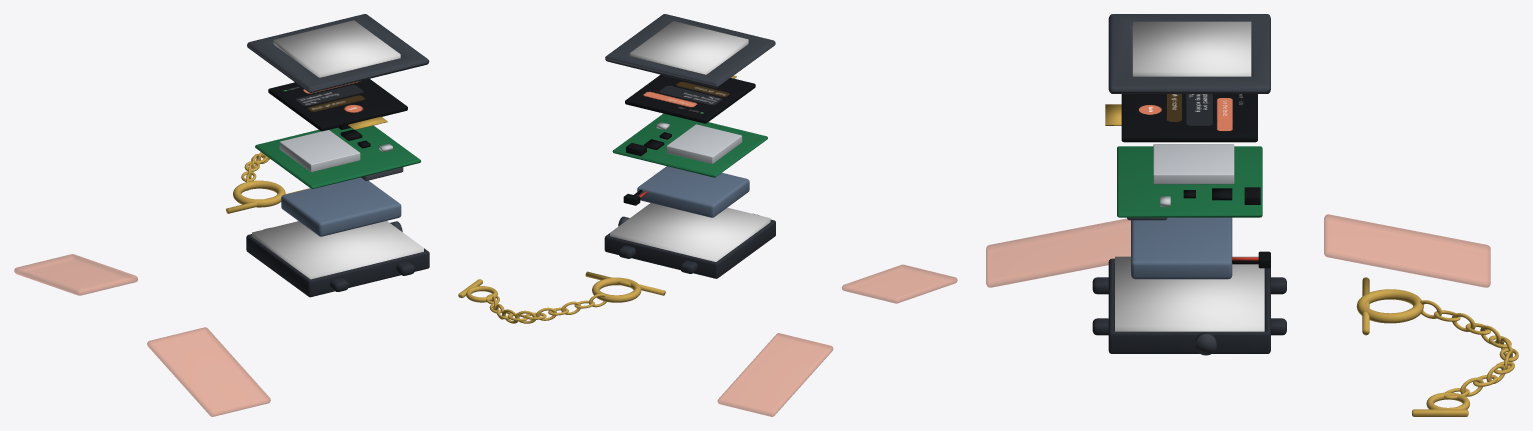
File: watch_build_guide.glb
3 views of the same model, side by side, from view 1: azimuth 30°, elevation 25°; view 2: azimuth 150°, elevation 25°; view 3: azimuth 270°, elevation 25° (orthographic). The views are drawn at different scales.
Parts seen in each view (by area): view 1: Shell cavity cutter, Optional strap, LiPo 502530, Bezel window cutter, Front bezel, Main PCB, Back shell, Optional strap.001, Active area 240x240, ESP32-S3 module (16MB flash, 8MB PSRAM), 1.54in display module, Bow ring; view 2: Shell cavity cutter, Optional strap.001, LiPo 502530, Bezel window cutter, Front bezel, Main PCB, Back shell, Optional strap, Active area 240x240, ESP32-S3 module (16MB flash, 8MB PSRAM), 1.54in display module, Bow ring; view 3: Shell cavity cutter, Optional strap.001, Main PCB, Bezel window cutter, Front bezel, LiPo 502530, Optional strap, Active area 240x240, Back shell, ESP32-S3 module (16MB flash, 8MB PSRAM), 1.54in display module, Bow ring.
Part boxes in pixels (x1,y1,x2,y2): Shell cavity cutter: [252, 221, 423, 279]; Optional strap: [147, 327, 270, 416]; LiPo 502530: [281, 177, 401, 236]; Bezel window cutter: [273, 20, 400, 77]; Front bezel: [247, 14, 429, 92]; Main PCB: [255, 125, 420, 188]; Back shell: [246, 234, 429, 297]; Optional strap.001: [14, 254, 137, 295]; Active area 240x240: [277, 80, 396, 121]; ESP32-S3 module (16MB flash, 8MB PSRAM): [279, 130, 360, 172]; 1.54in display module: [268, 79, 407, 131]; Bow ring: [233, 180, 285, 207]; Shell cavity cutter: [610, 203, 770, 261]; Optional strap.001: [717, 333, 833, 416]; LiPo 502530: [637, 166, 749, 217]; Bezel window cutter: [630, 21, 748, 74]; Front bezel: [605, 14, 775, 87]; Main PCB: [612, 113, 767, 177]; Back shell: [604, 219, 775, 278]; Optional strap: [842, 264, 957, 303]; Active area 240x240: [633, 75, 745, 116]; ESP32-S3 module (16MB flash, 8MB PSRAM): [666, 124, 742, 163]; 1.54in display module: [625, 74, 755, 123]; Bow ring: [592, 277, 641, 302]; Shell cavity cutter: [1115, 256, 1264, 331]; Optional strap.001: [1324, 214, 1490, 287]; Main PCB: [1117, 146, 1262, 217]; Bezel window cutter: [1133, 21, 1251, 76]; Front bezel: [1108, 14, 1270, 93]; LiPo 502530: [1131, 217, 1232, 279]; Optional strap: [986, 218, 1130, 287]; Active area 240x240: [1136, 94, 1248, 133]; Back shell: [1108, 258, 1270, 353]; ESP32-S3 module (16MB flash, 8MB PSRAM): [1153, 144, 1234, 184]; 1.54in display module: [1121, 94, 1257, 142]; Bow ring: [1356, 289, 1423, 323].
Size of the model in its own units: 126 by 90.73 by 131.
13 materials, 1 textured.
